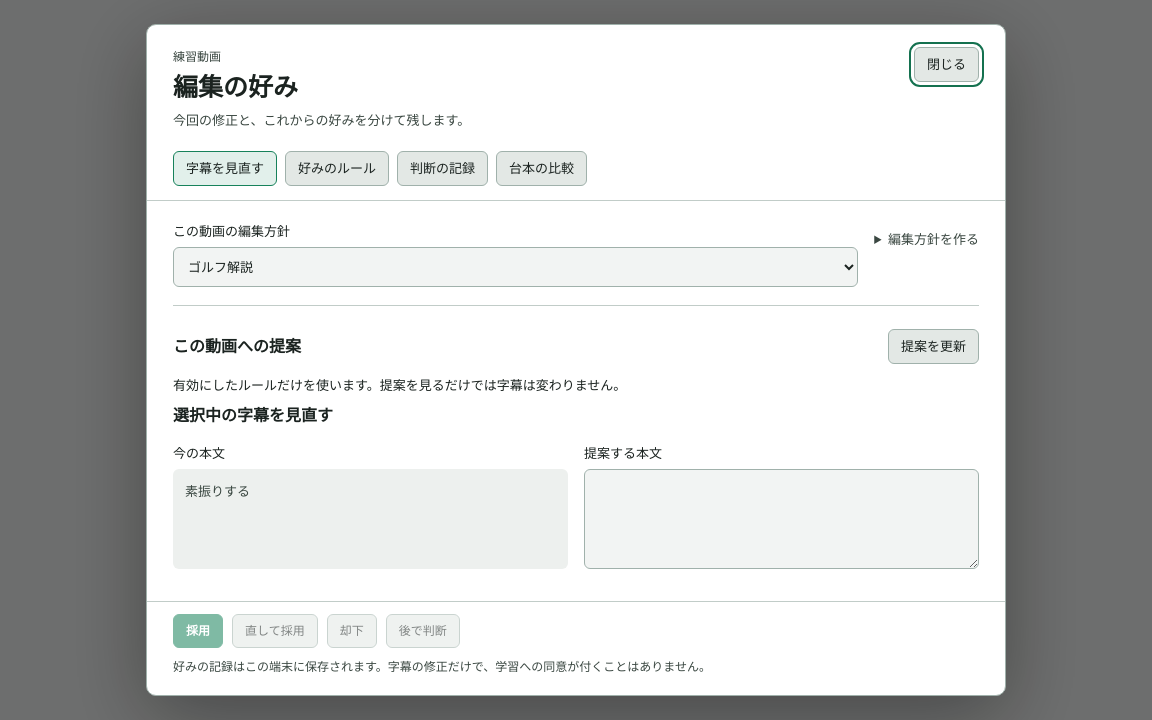
採否と学習同意を分ける画面 › 古い字幕などで編集が拒否された場合に、採用したと記録しない
Type "素振りをする" into the text box labelled "提案する本文" at [782, 519], box [584, 469, 979, 569]
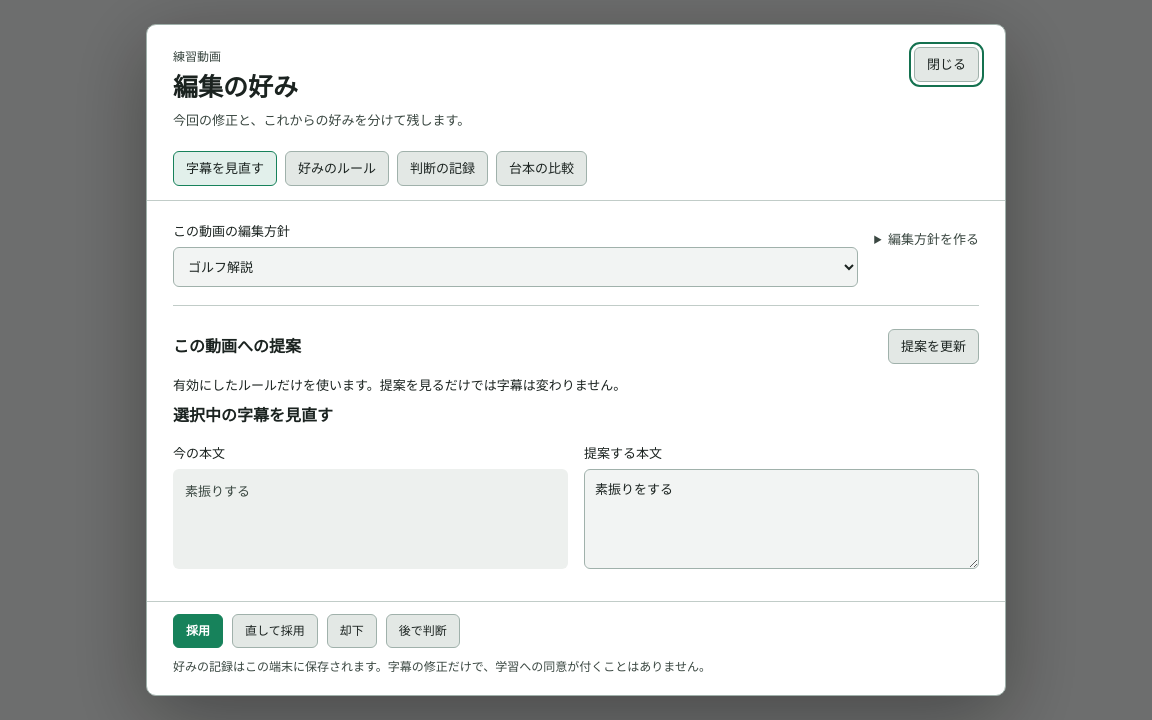
Click the button "採用" at [198, 631], box [173, 614, 223, 648]
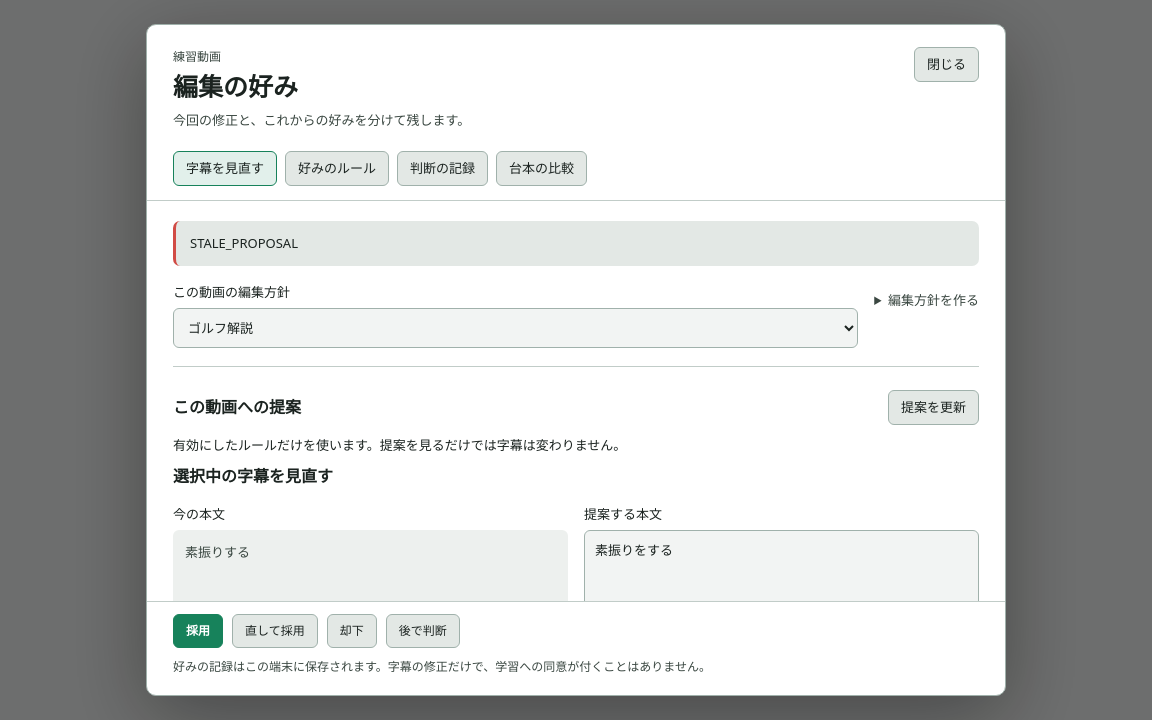
Check: the message "STALE_PROPOSAL" is shown, box [173, 221, 979, 266]
